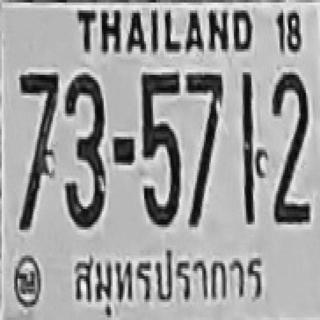N01: (241, 72, 255, 219), (241, 72, 255, 206)
N02: (271, 71, 309, 218), (270, 71, 309, 208)
N03: (63, 72, 106, 227)
N05: (141, 70, 179, 224)
N07: (18, 72, 58, 230), (185, 70, 222, 224), (18, 71, 58, 172)
P57: (67, 246, 267, 308)
